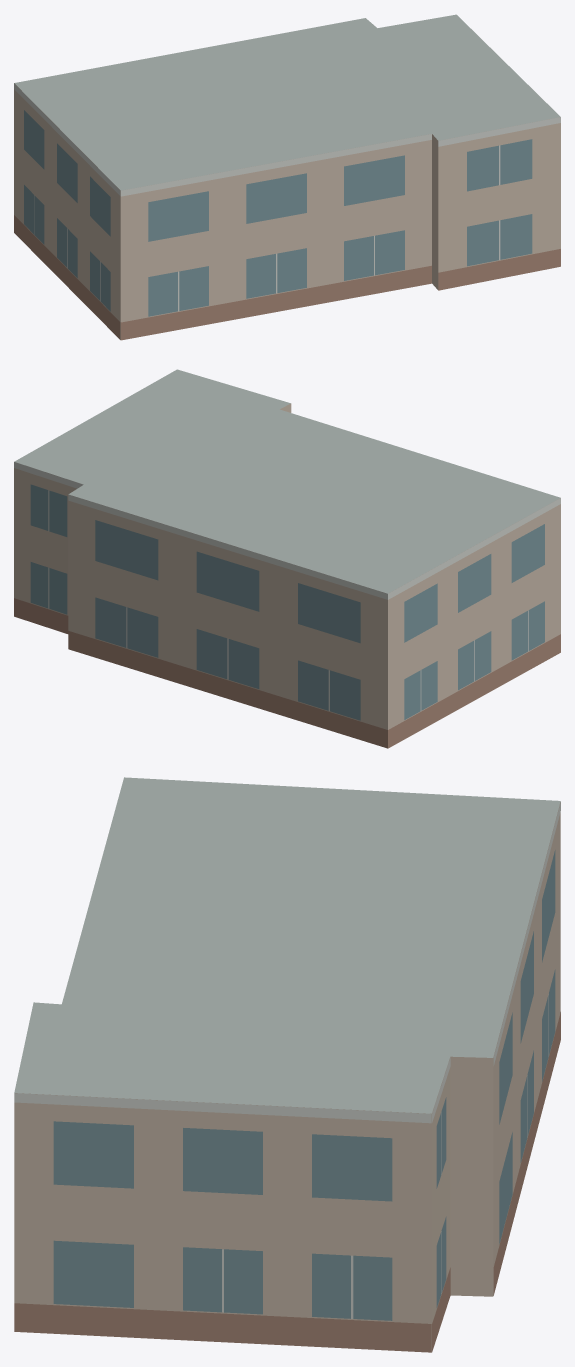
The model's file is survey-upis-32658775.glb.
3 views of the same model, one above another, from view 1: azimuth 30°, elevation 25°; view 2: azimuth 150°, elevation 25°; view 3: azimuth 270°, elevation 25° (orthographic). The views are drawn at different scales.
Parts seen in each view (by area): view 1: survey-upis-32658775.tmp; view 2: survey-upis-32658775.tmp; view 3: survey-upis-32658775.tmp.
Part boxes in pixels (left/top/right/bottom): survey-upis-32658775.tmp: left=14, top=14, right=560, bottom=340; survey-upis-32658775.tmp: left=14, top=369, right=560, bottom=748; survey-upis-32658775.tmp: left=14, top=777, right=560, bottom=1352.
Bounding box in the file's own units: 18.44 × 6.1 × 12.67.
